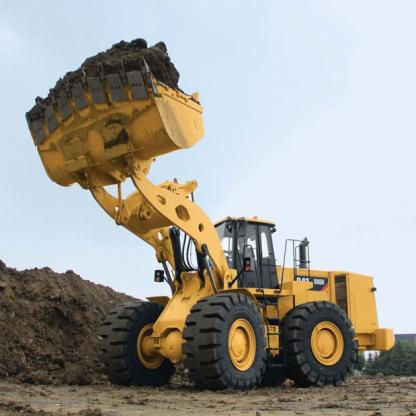bull_dozer/loader/grader: (20, 33, 397, 391)
